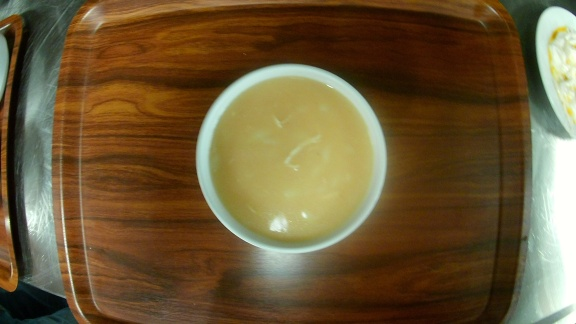tavukcorba: (189, 60, 393, 256)
